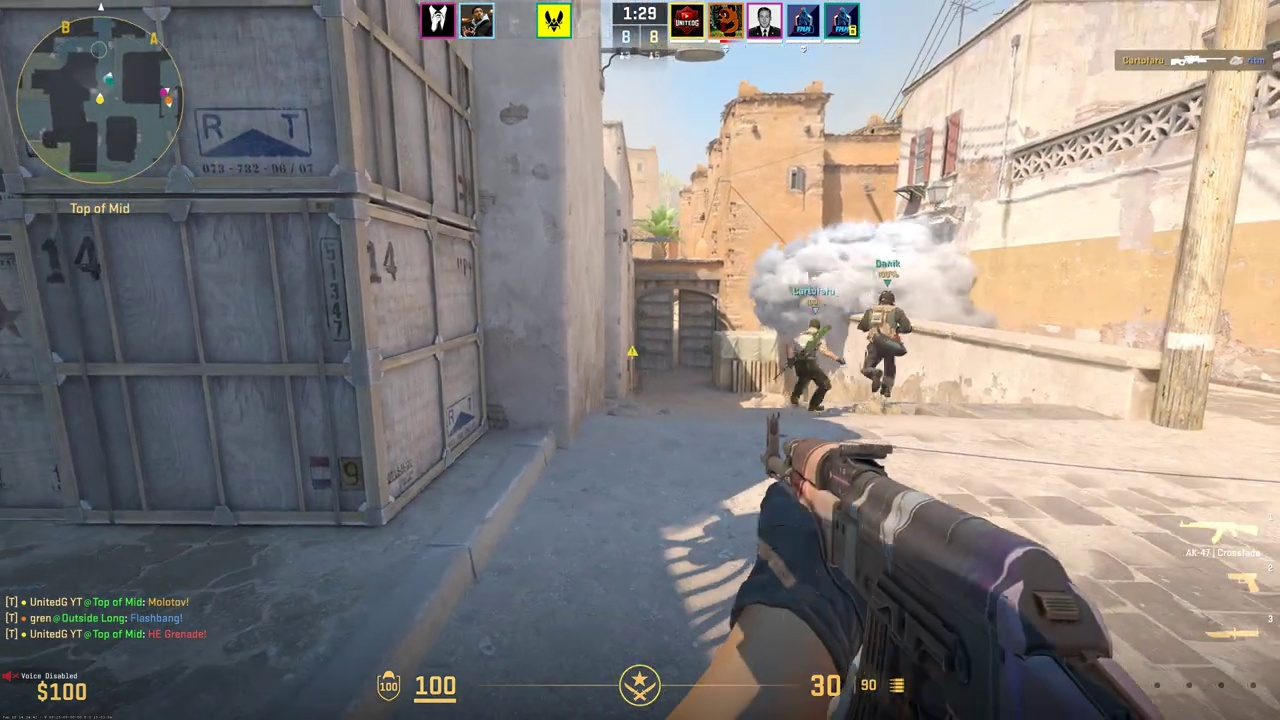Terrorist: (858, 291, 908, 397), (789, 319, 831, 411)
